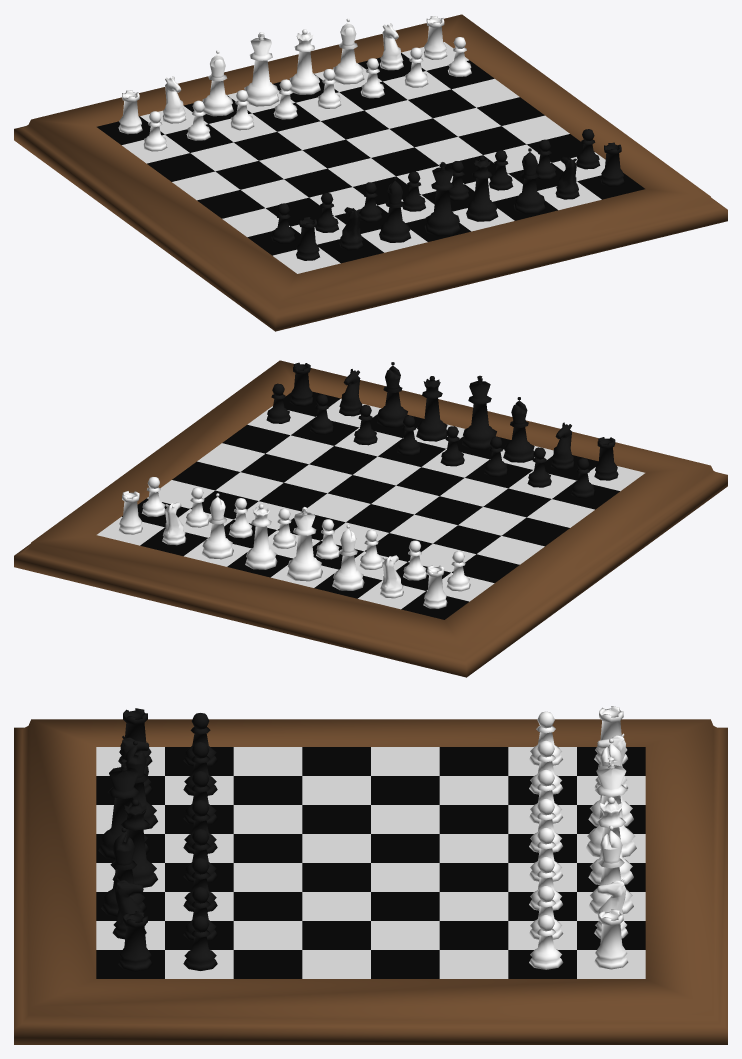
The model's file is chess.dae.
The picture shows the model from 3 angles, top to bottom: view 1: azimuth 30°, elevation 25°; view 2: azimuth 150°, elevation 25°; view 3: azimuth 270°, elevation 25°; orthographic projection. The views are drawn at different scales.
Parts seen in each view (by area): view 1: Chessboard_Surround, ChessBoardWhite, ChessBoardBlack, King_001, King, Queen_001, Queen, Bishop_2_001, Bishop_001, Bishop, Bishop_2, Knight (+23 smaller); view 2: Chessboard_Surround, ChessBoardWhite, ChessBoardBlack, King, King_001, Queen, Queen_001, Bishop_2, Bishop, Bishop_001, Bishop_2_001, LPRook_002 (+23 smaller); view 3: Chessboard_Surround, ChessBoardWhite, ChessBoardBlack, King_001, King, Queen_001, Bishop, Bishop_2_001, LPRook_001, LPRook_003, Queen, White_Pawn (+21 smaller).
Boxes of the visible parts, x1=… form: Chessboard_Surround: x1=14, y1=14, x2=727, y2=331; ChessBoardWhite: x1=122, y1=42, x2=605, y2=273; ChessBoardBlack: x1=97, y1=53, x2=644, y2=263; King_001: x1=424, y1=162, x2=460, y2=236; King: x1=244, y1=32, x2=279, y2=106; Queen_001: x1=466, y1=156, x2=498, y2=221; Queen: x1=289, y1=29, x2=320, y2=94; Bishop_2_001: x1=513, y1=148, x2=545, y2=214; Bishop_001: x1=379, y1=177, x2=410, y2=242; Bishop: x1=333, y1=18, x2=364, y2=84; Bishop_2: x1=202, y1=50, x2=233, y2=116; Knight: x1=162, y1=76, x2=186, y2=123; Chessboard_Surround: x1=14, y1=360, x2=727, y2=677; ChessBoardWhite: x1=97, y1=398, x2=644, y2=609; ChessBoardBlack: x1=122, y1=391, x2=619, y2=619; King: x1=286, y1=507, x2=322, y2=581; King_001: x1=462, y1=375, x2=496, y2=449; Queen: x1=245, y1=504, x2=277, y2=569; Queen_001: x1=416, y1=376, x2=447, y2=441; Bishop_2: x1=332, y1=525, x2=364, y2=590; Bishop: x1=201, y1=493, x2=233, y2=559; Bishop_001: x1=503, y1=397, x2=534, y2=462; Bishop_2_001: x1=377, y1=362, x2=407, y2=427; LPRook_002: x1=594, y1=437, x2=618, y2=480; Chessboard_Surround: x1=14, y1=719, x2=727, y2=1044; ChessBoardWhite: x1=96, y1=747, x2=645, y2=978; ChessBoardBlack: x1=96, y1=747, x2=645, y2=978; King_001: x1=98, y1=759, x2=149, y2=859; King: x1=585, y1=757, x2=636, y2=857; Queen_001: x1=112, y1=799, x2=157, y2=887; Bishop: x1=588, y1=825, x2=633, y2=913; Bishop_2_001: x1=101, y1=828, x2=146, y2=916; LPRook_001: x1=594, y1=909, x2=628, y2=969; LPRook_003: x1=118, y1=911, x2=152, y2=971; Queen: x1=588, y1=797, x2=633, y2=884; White_Pawn: x1=529, y1=914, x2=563, y2=969.
Bounding box in the file's own units: 2.5 × 2.5 × 0.4726.
